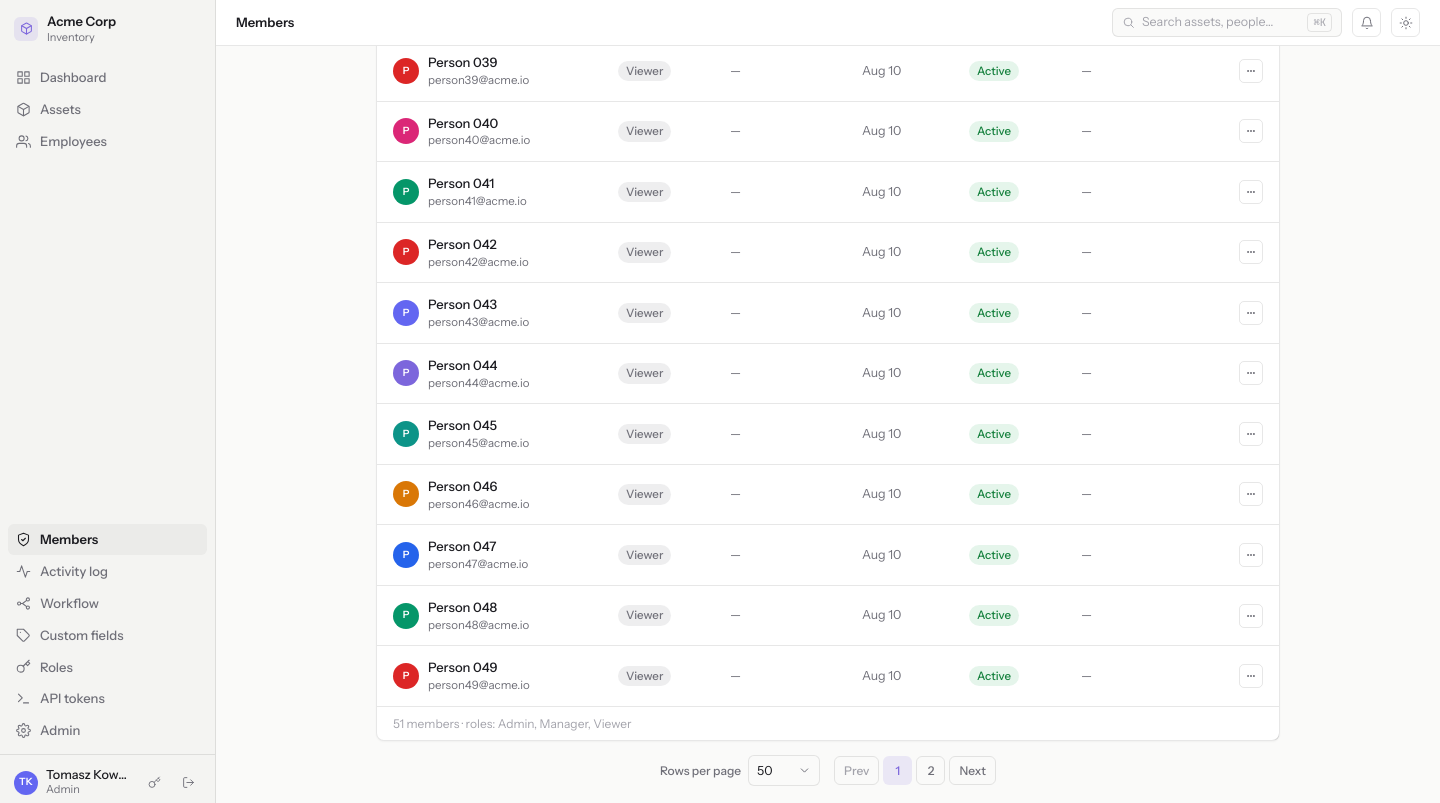
Test case: the members list › steps back a page when the last row of the last one is removed
(page scrolled)
What coordinates should you click on to do the following:
click the button "2"
I would click on:
 (931, 771)
Its box is top-left (916, 756), bottom-right (945, 785).
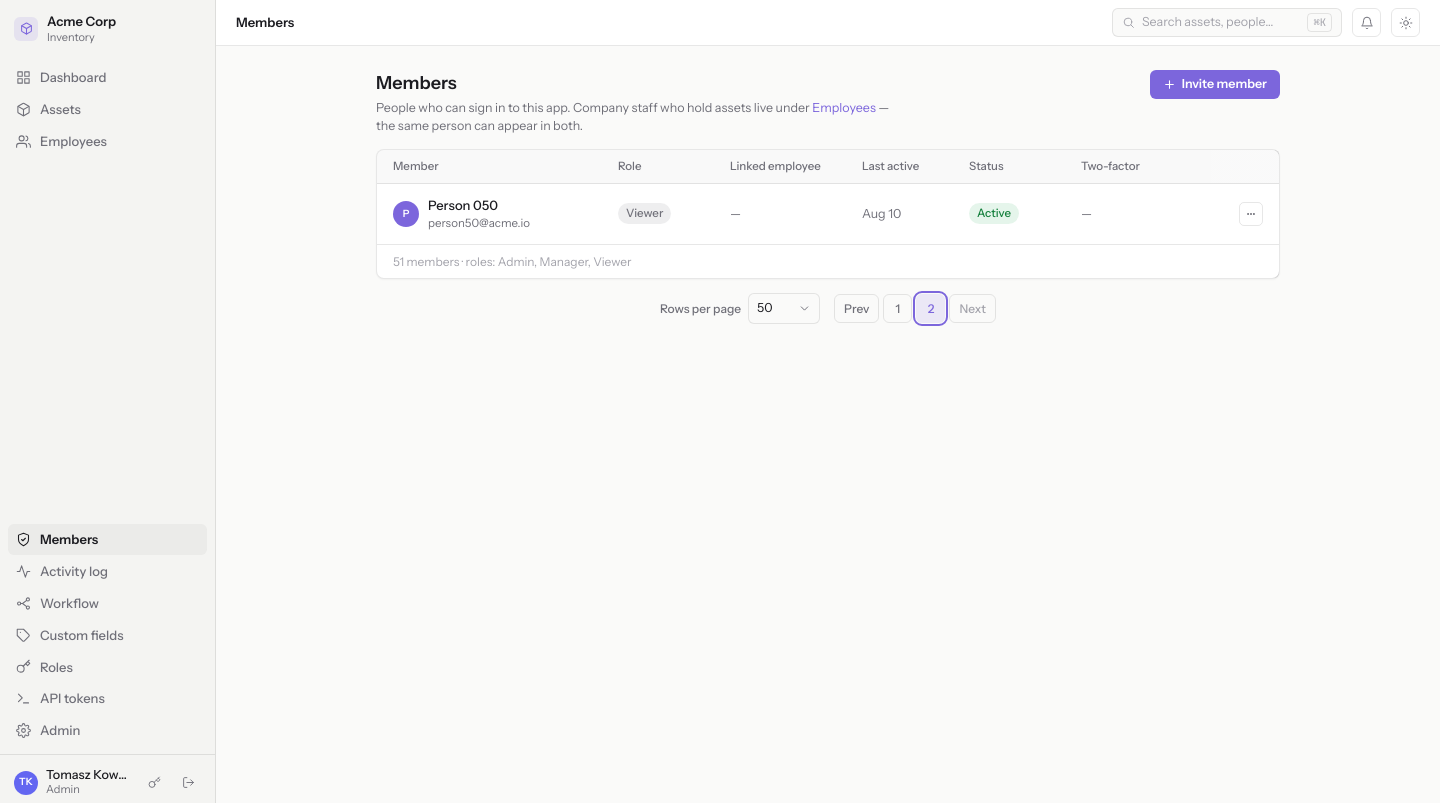
What coordinates should you click on to do the following:
click the button named "actions for"
I would click on:
 (1251, 214)
Its box is top-left (1239, 202), bottom-right (1263, 226).
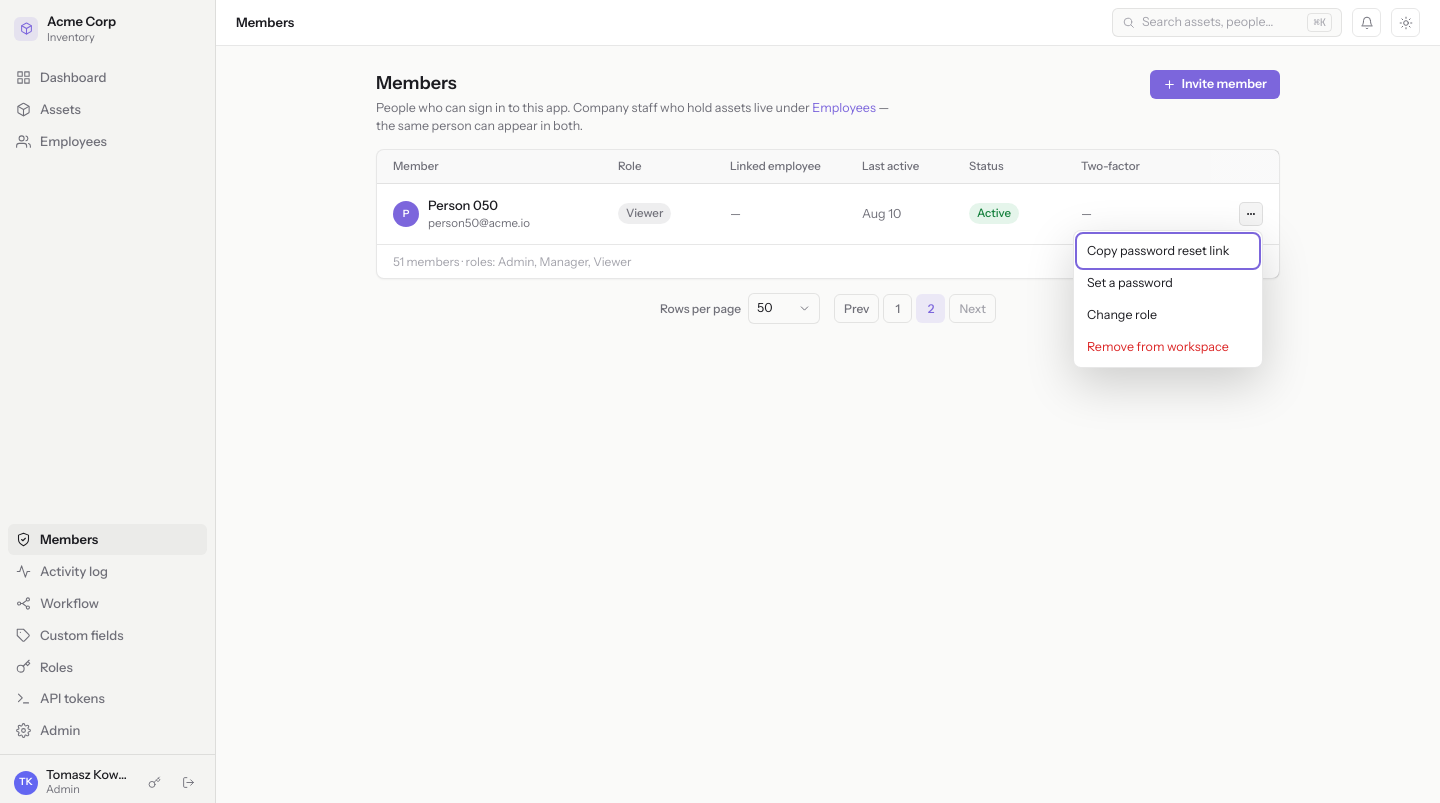
What coordinates should you click on to do the following:
click the menu item "Remove from workspace"
I would click on:
 (1168, 347)
Its box is top-left (1078, 331), bottom-right (1258, 363).
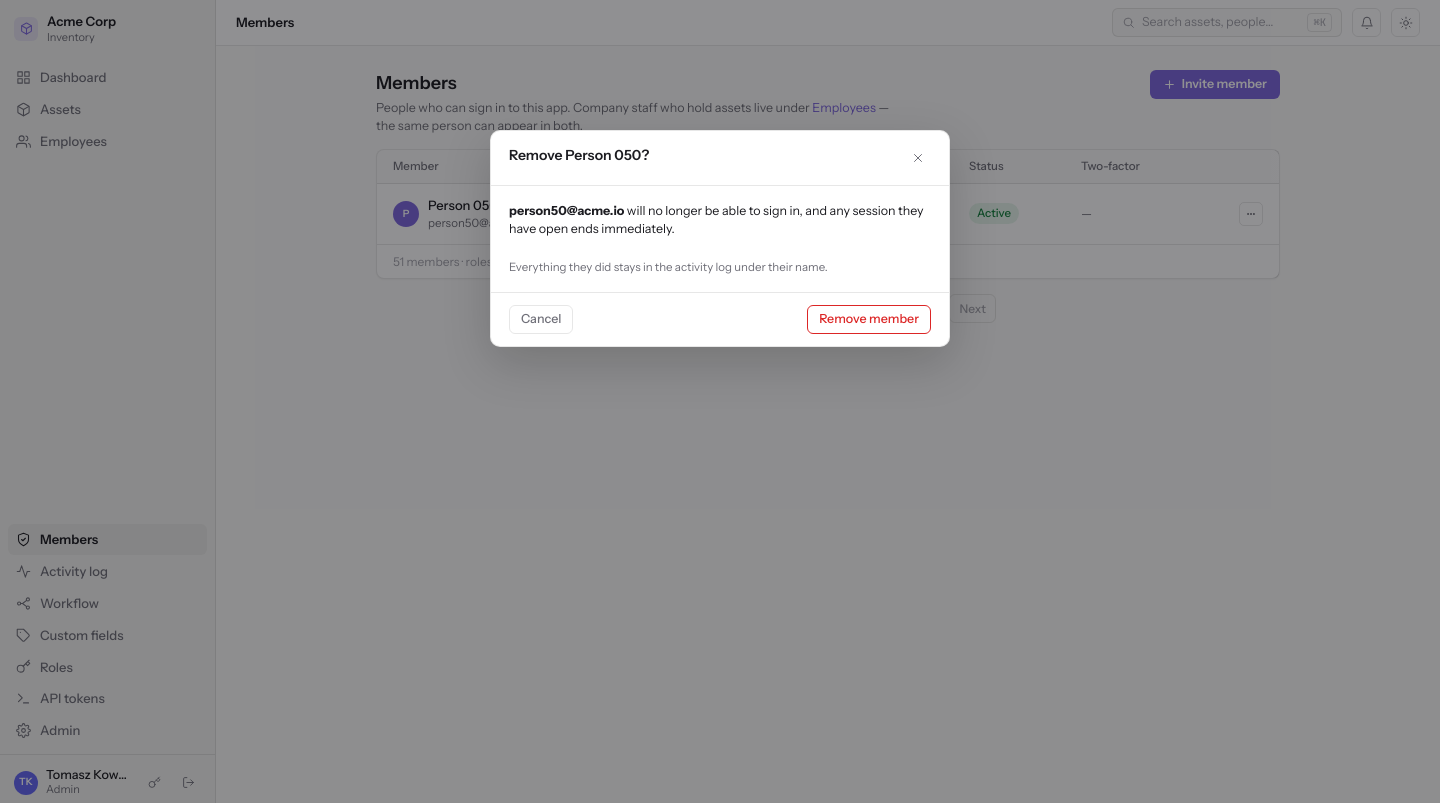
What coordinates should you click on to do the following:
click the button "Remove member"
I would click on:
 (869, 319)
Its box is top-left (807, 304), bottom-right (931, 334).
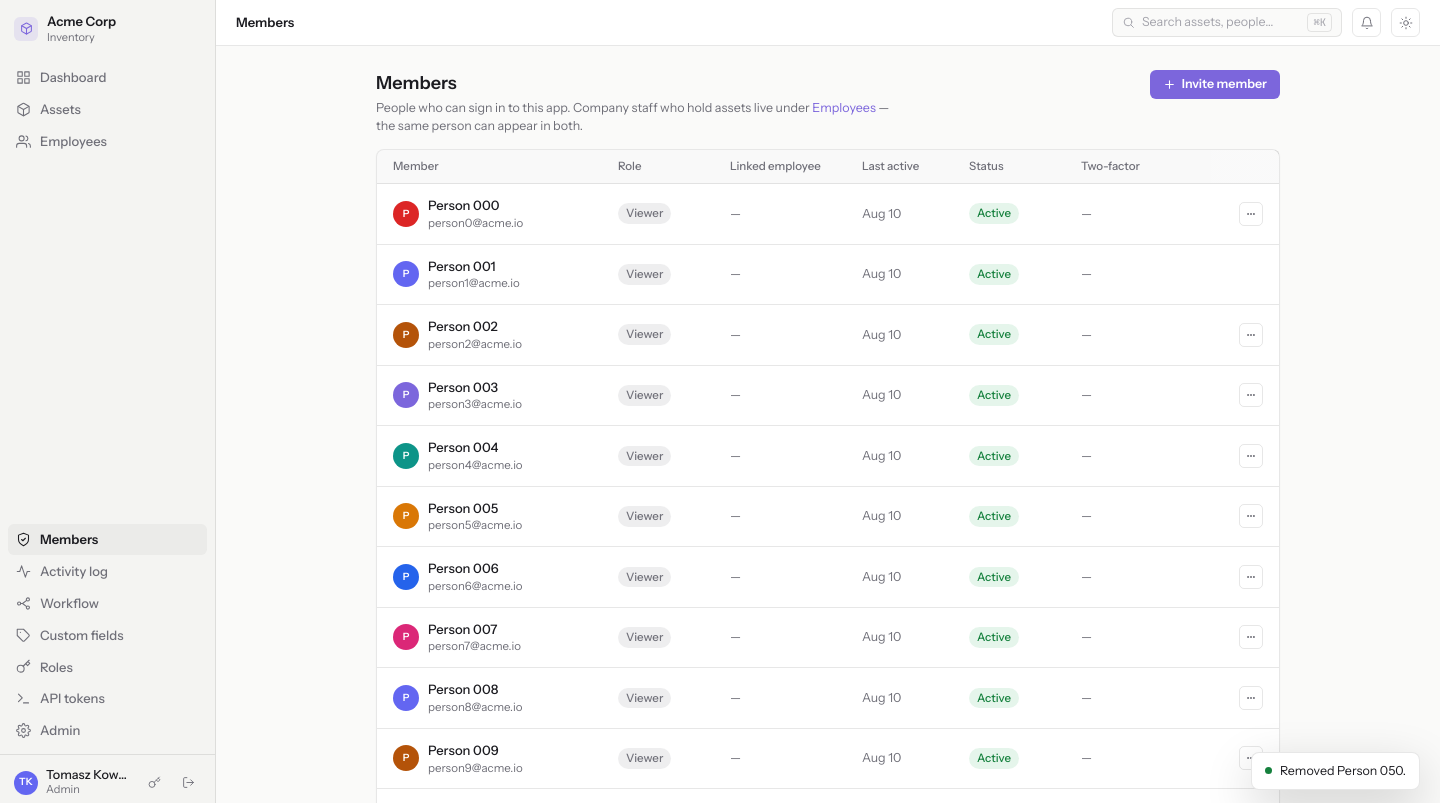
Check: the text "person0@acme.io" is shown, box top-left (428, 215), bottom-right (523, 232)
